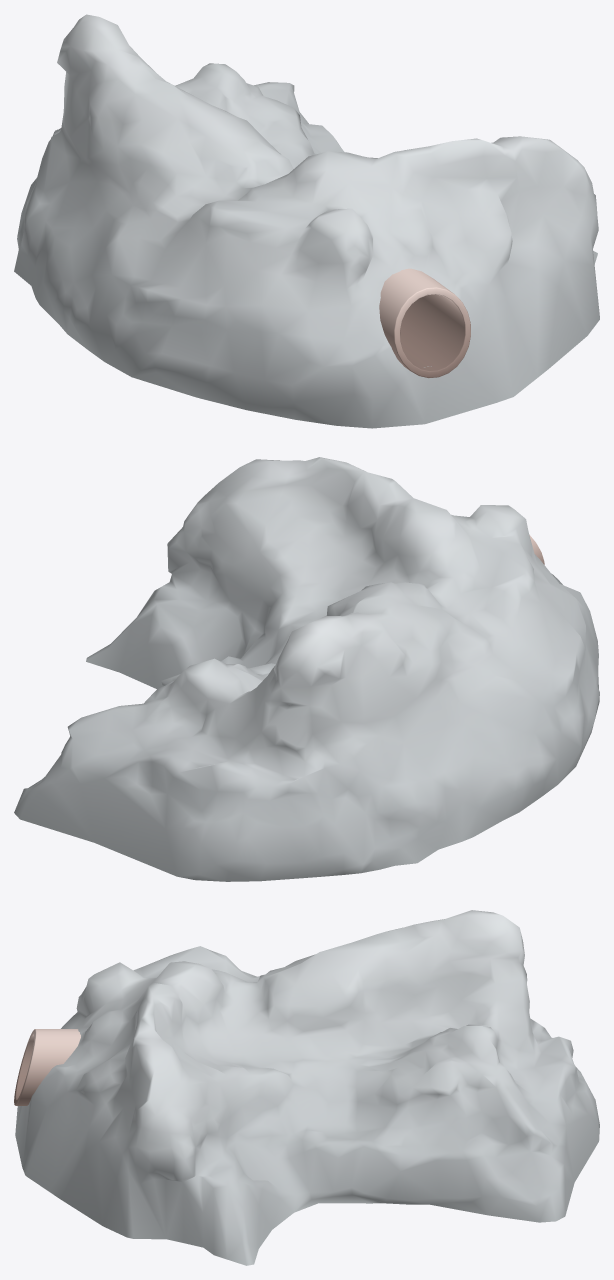
File: Mountain_12.glb
3 views of the same model, one above another, from view 1: azimuth 30°, elevation 25°; view 2: azimuth 150°, elevation 25°; view 3: azimuth 270°, elevation 25° (orthographic). The views are drawn at different scales.
Parts seen in each view (by area): view 1: Mountain_12; view 2: Mountain_12; view 3: Mountain_12.
Boxes of the visible parts, x1,y1,x2,y2 form: Mountain_12: [14, 14, 599, 428]; Mountain_12: [14, 457, 599, 881]; Mountain_12: [14, 910, 599, 1265].
Size of the model in its own units: 13.98 by 6.1 by 16.49.
Materials: 1 (1 with a texture image).
